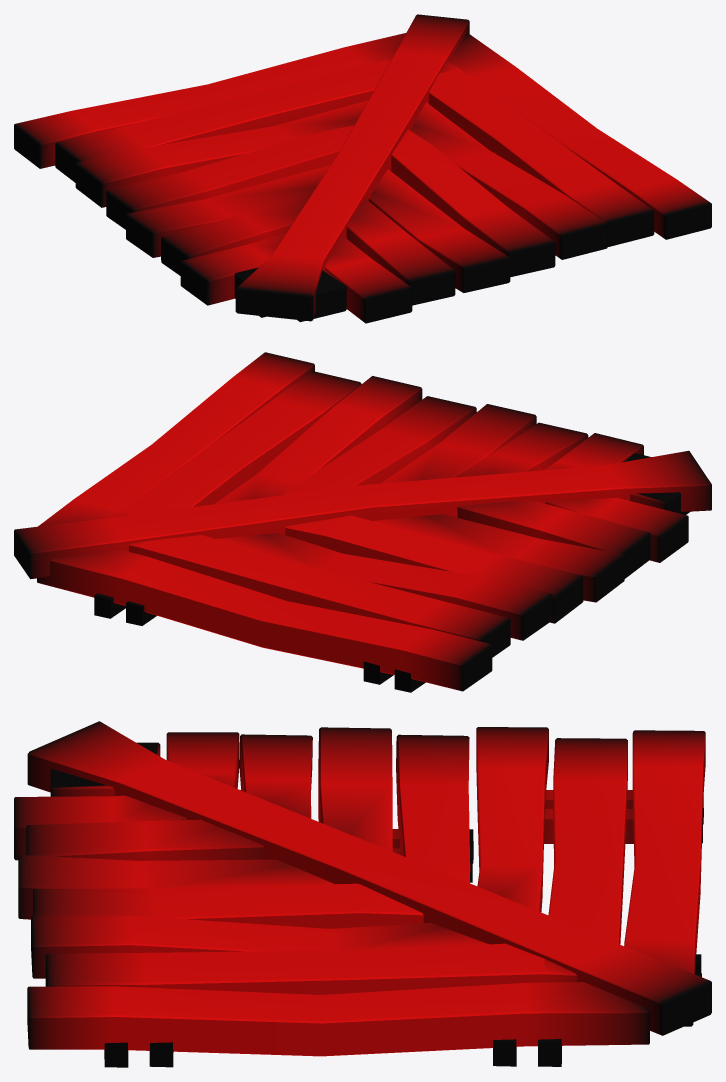
Rendered from SM_BoardWalkCorner.FBX.
The picture shows the model from 3 angles, top to bottom: view 1: azimuth 30°, elevation 25°; view 2: azimuth 150°, elevation 25°; view 3: azimuth 270°, elevation 25°; orthographic projection. The views are drawn at different scales.
Parts seen in each view (by area): view 1: SM_BoardWalkCorner_LOD0; view 2: SM_BoardWalkCorner_LOD0; view 3: SM_BoardWalkCorner_LOD0.
Part boxes in pixels (<box>): SM_BoardWalkCorner_LOD0: <box>14,14,711,323</box>; SM_BoardWalkCorner_LOD0: <box>14,352,711,692</box>; SM_BoardWalkCorner_LOD0: <box>14,721,711,1067</box>.
Size of what is drawn, in the model's own units: 288 by 291 by 30.91.
